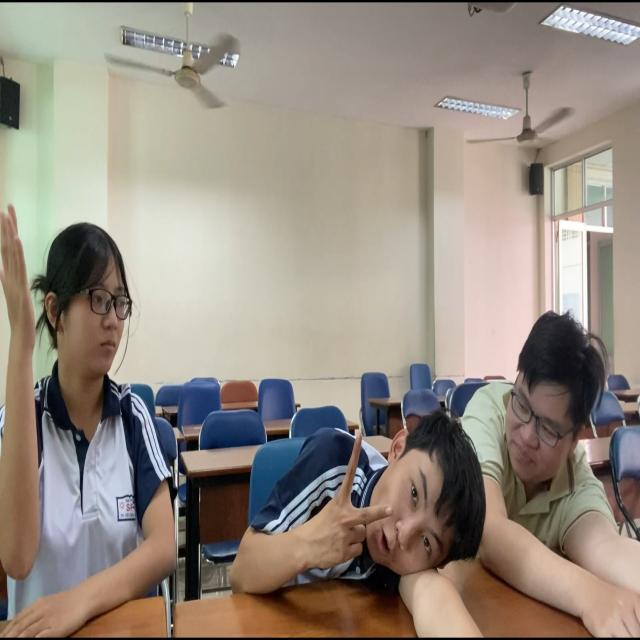raise_hand: (1, 138, 196, 640)
